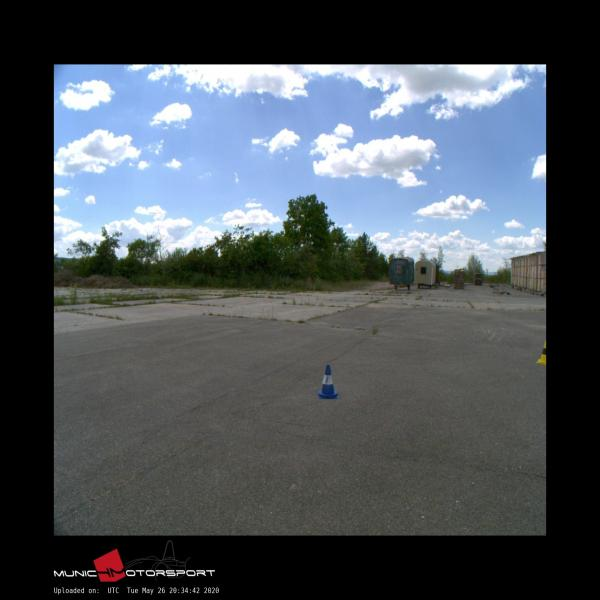blue_cone: (318, 365, 337, 398)
yellow_cone: (536, 340, 545, 364)
